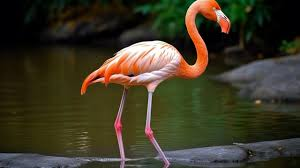Walking: (73, 0, 272, 168)
